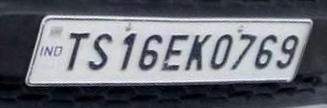0: (207, 32, 235, 71)
1: (116, 30, 144, 77)
6: (134, 31, 167, 74), (250, 33, 282, 73)
7: (228, 33, 259, 72)
9: (273, 32, 304, 73)
E: (158, 32, 192, 74)
K: (182, 32, 212, 73)
S: (82, 29, 118, 73)
T: (59, 28, 92, 75)
